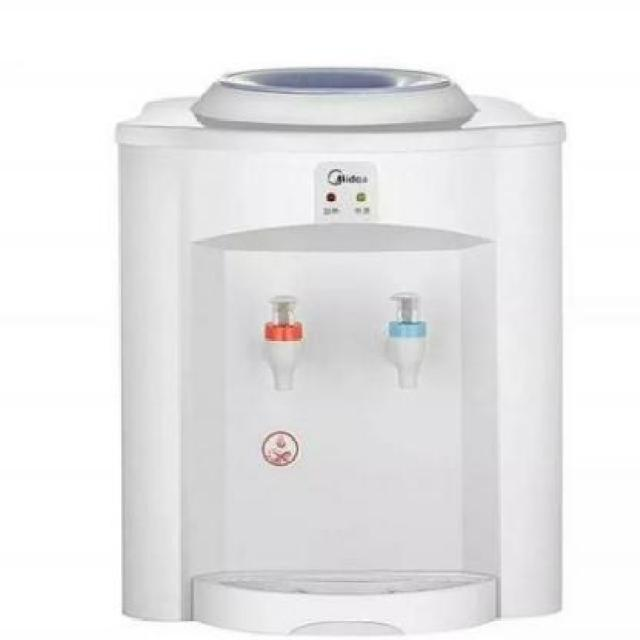cooler: (117, 63, 567, 636)
